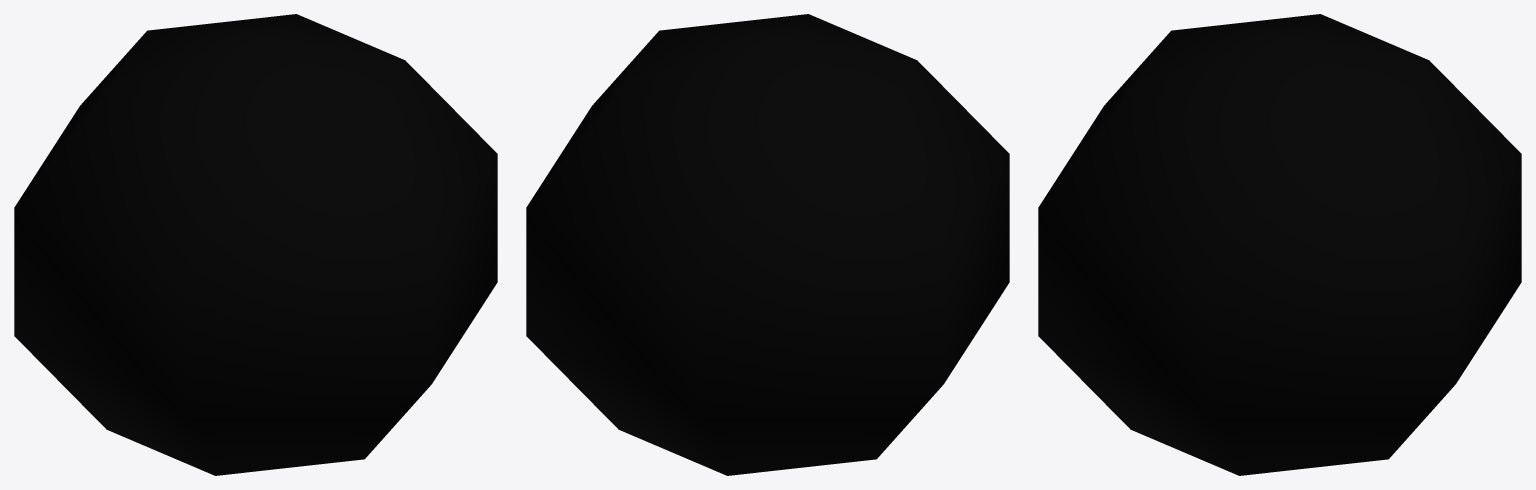
File: bubble_solid_sphere11.glb
The picture shows the model from 3 angles, left to right: view 1: azimuth 30°, elevation 25°; view 2: azimuth 150°, elevation 25°; view 3: azimuth 270°, elevation 25°; orthographic projection.
Visible parts, largest first — view 1: bubble_solid_texture.png__; view 2: bubble_solid_texture.png__; view 3: bubble_solid_texture.png__.
Part boxes in pixels (box(x1,y1,x2,y2)): bubble_solid_texture.png__: box(14, 14, 497, 475); bubble_solid_texture.png__: box(526, 14, 1009, 475); bubble_solid_texture.png__: box(1038, 14, 1521, 475).
Bounding box in the file's own units: 8.08 × 7.68 × 8.1.
Materials: 1 (1 with a texture image).
